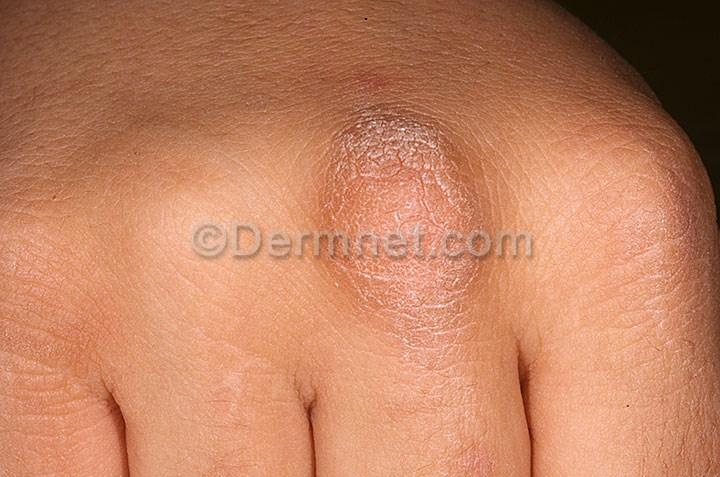Eczema: (303, 88, 488, 228), (322, 263, 497, 383)
